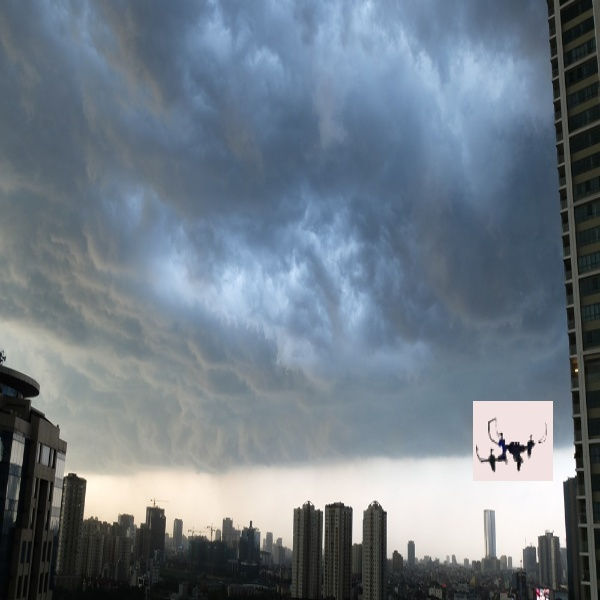drone: (473, 401, 550, 481)
